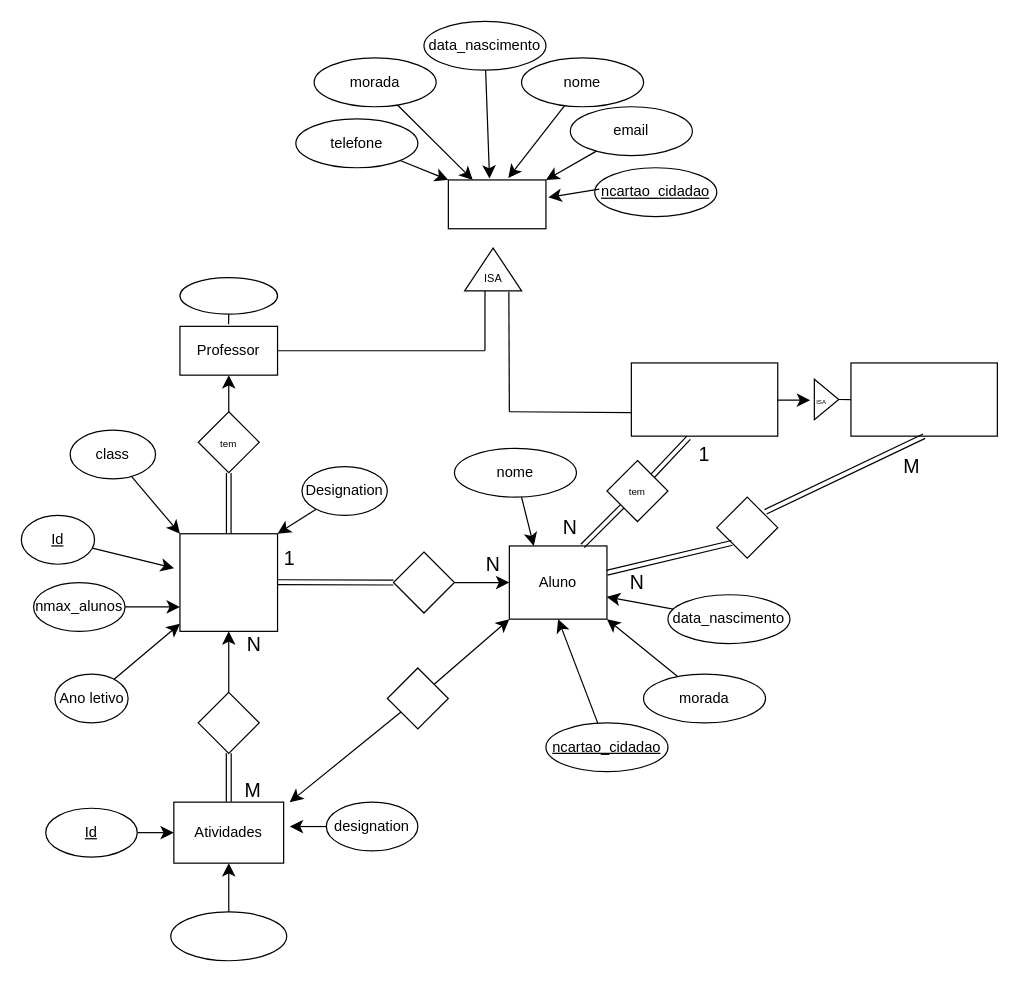
This 1019x982 diagram has some shape labels left out. Here are the shapes that lost their labels. From the top down, the centre of each, then its label:
At point 496,204: "Pessoa".
At point 228,295: "n_funcionario".
At point 704,399: "Encarregado Educação".
At point 923,399: "Responsável por Levantamento".
At point 747,527: "levanta".
At point 228,582: "Turma".
At point 423,582: "pertence".
At point 417,698: "participa".
At point 228,722: "realiza".
At point 228,936: "custo_financeiro".
